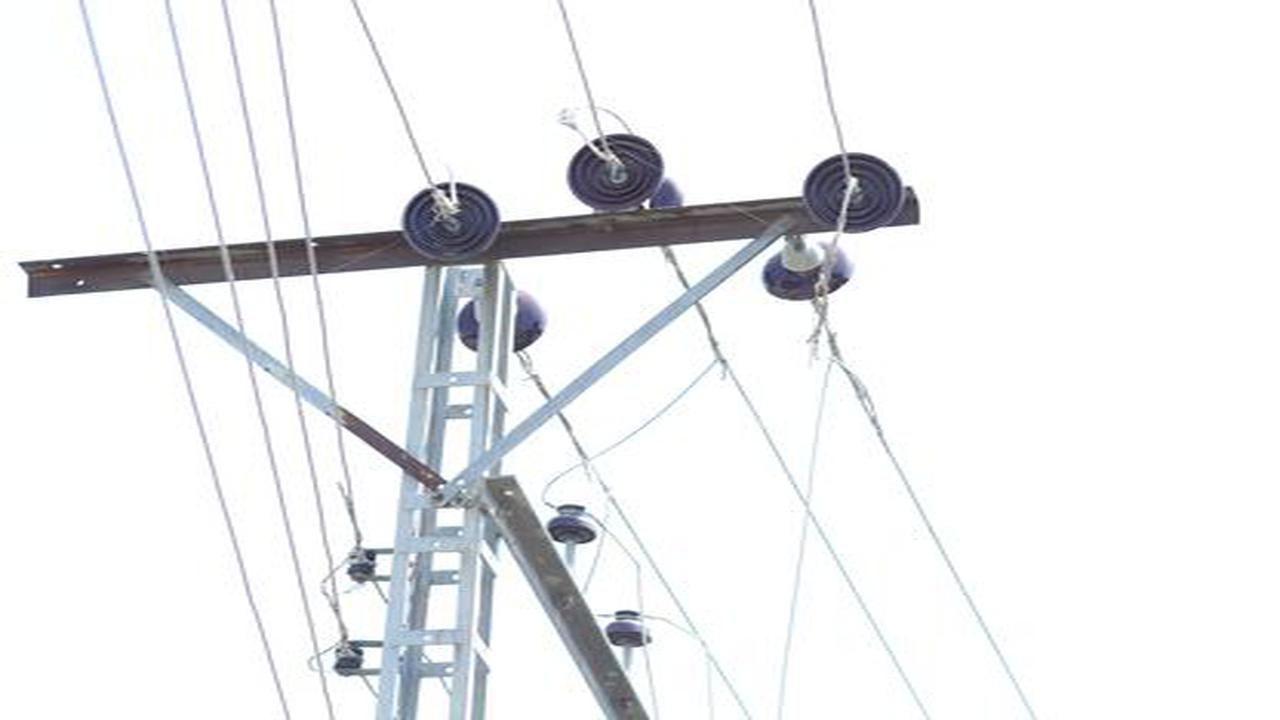insulator_disc: (399, 175, 508, 275), (802, 147, 906, 231), (563, 135, 666, 207), (760, 242, 853, 302)
insulator_pin: (542, 499, 602, 554), (605, 607, 652, 654)
